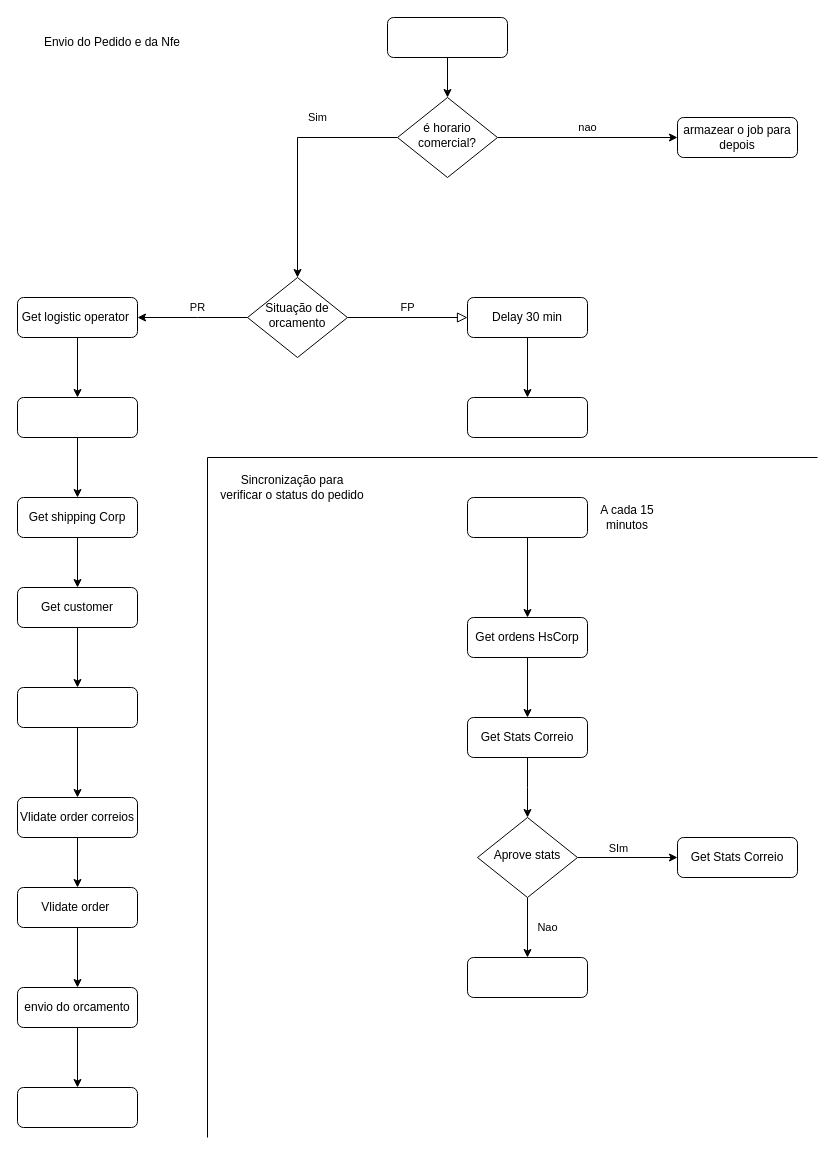
Image size: 836x1156. Some labels were removed from this diagram. Each missing label, with the centre of its shape:
"End" belongs at point 527,977.
"Envio nota fiscal" belongs at point 527,417.
"Get address" belongs at point 77,707.
"Get orders products" belongs at point 77,417.
"put xpeed no corp" belongs at point 77,1107.
"Synchronize" belongs at point 527,517.
"Webhook" belongs at point 447,37.
